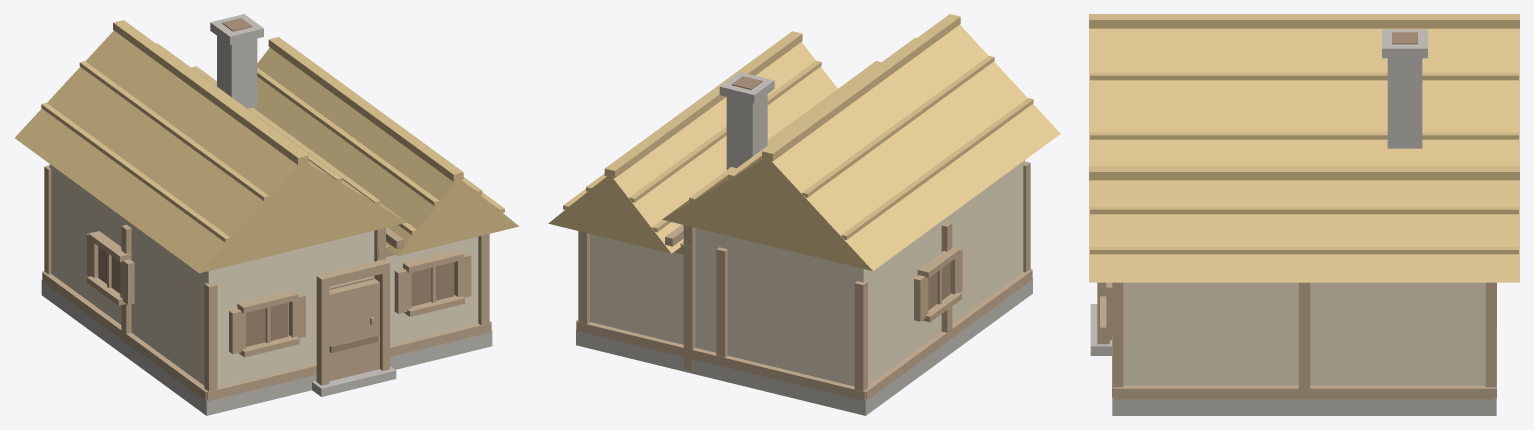
Rendered from house-twin-gable.glb.
3 views of the same model, side by side, from view 1: azimuth 30°, elevation 25°; view 2: azimuth 150°, elevation 25°; view 3: azimuth 270°, elevation 25° (orthographic). The views are drawn at different scales.
Visible parts, largest first — view 1: house-twin-gable_roof, house-twin-gable_plaster, house-twin-gable_wood, house-twin-gable_stone, house-twin-gable_door, house-twin-gable_window; view 2: house-twin-gable_roof, house-twin-gable_plaster, house-twin-gable_wood, house-twin-gable_stone, house-twin-gable_window; view 3: house-twin-gable_roof, house-twin-gable_plaster, house-twin-gable_stone, house-twin-gable_wood.
Boxes of the visible parts, x1,y1,x2,y2 form: house-twin-gable_roof: [15, 20, 519, 273]; house-twin-gable_plaster: [49, 164, 478, 386]; house-twin-gable_wood: [42, 165, 491, 401]; house-twin-gable_stone: [41, 14, 492, 415]; house-twin-gable_door: [329, 279, 379, 381]; house-twin-gable_window: [98, 18, 454, 352]; house-twin-gable_roof: [548, 14, 1060, 270]; house-twin-gable_plaster: [590, 160, 1024, 386]; house-twin-gable_wood: [576, 161, 1032, 400]; house-twin-gable_stone: [576, 72, 1032, 415]; house-twin-gable_window: [731, 76, 950, 310]; house-twin-gable_roof: [1089, 14, 1519, 282]; house-twin-gable_plaster: [1123, 282, 1485, 385]; house-twin-gable_stone: [1090, 29, 1496, 415]; house-twin-gable_wood: [1097, 282, 1496, 399].
Size of the model in its own units: 2 by 1.56 by 2.
